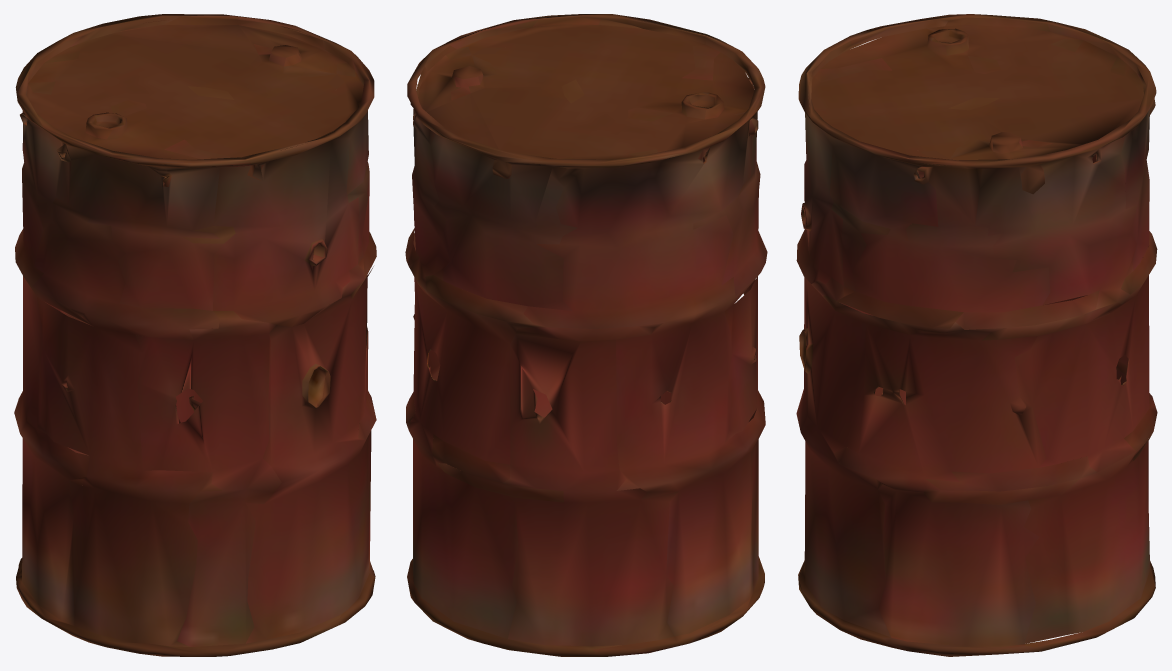
File: tambor.movil.glb
3 views of the same model, side by side, from view 1: azimuth 30°, elevation 25°; view 2: azimuth 150°, elevation 25°; view 3: azimuth 270°, elevation 25° (orthographic).
Parts seen in each view (by area): view 1: geometry_0; view 2: geometry_0; view 3: geometry_0.
Boxes of the visible parts, x1,y1,x2,y2 form: geometry_0: [14, 14, 376, 656]; geometry_0: [405, 14, 767, 656]; geometry_0: [796, 14, 1157, 656].
Bounding box in the file's own units: 0.58 × 0.8799 × 0.5799.
Materials: 1 (1 with a texture image).
